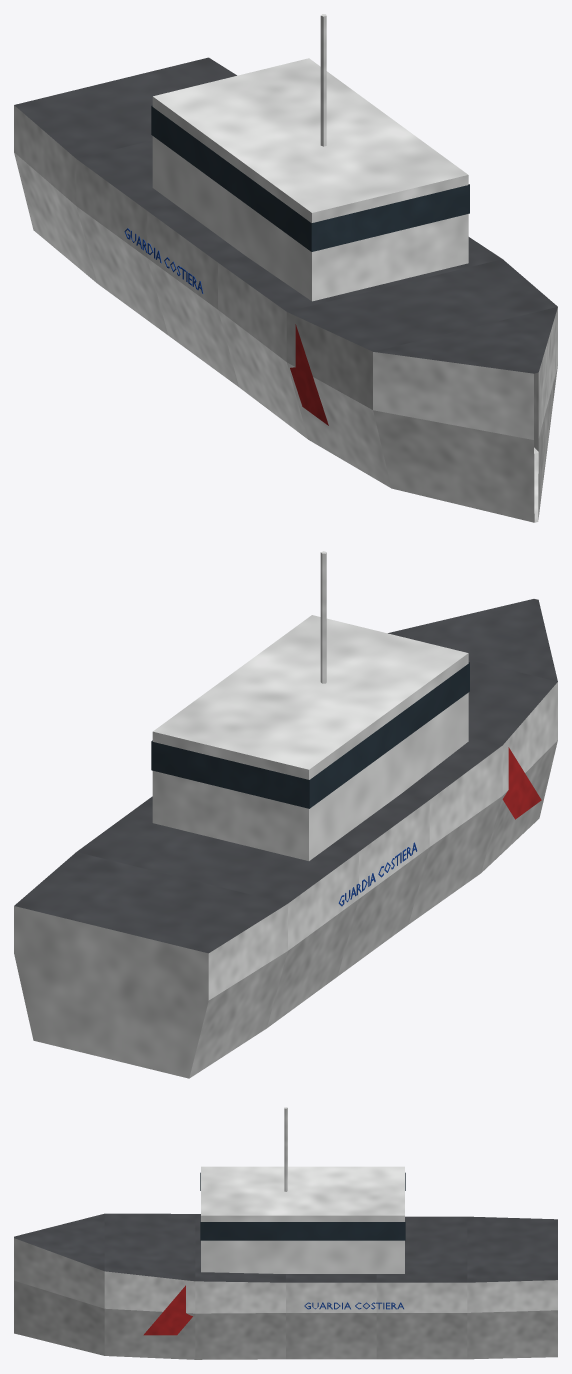
Rendered from SM_MoloItalia_Motovedetta_v2_LOD1.fbx.
3 views of the same model, one above another, from view 1: azimuth 30°, elevation 25°; view 2: azimuth 150°, elevation 25°; view 3: azimuth 270°, elevation 25° (orthographic). The views are drawn at different scales.
Visible parts, largest first — view 1: SM_MoloItalia_Motovedetta_v2_LOD1; view 2: SM_MoloItalia_Motovedetta_v2_LOD1; view 3: SM_MoloItalia_Motovedetta_v2_LOD1.
Boxes of the visible parts, box(x1,y1,x2,y2) form: SM_MoloItalia_Motovedetta_v2_LOD1: box(14, 14, 557, 522); SM_MoloItalia_Motovedetta_v2_LOD1: box(14, 551, 557, 1078); SM_MoloItalia_Motovedetta_v2_LOD1: box(14, 1107, 557, 1359).
Bounding box in the file's own units: 469 × 1600 × 730.
1 material, 1 textured.
